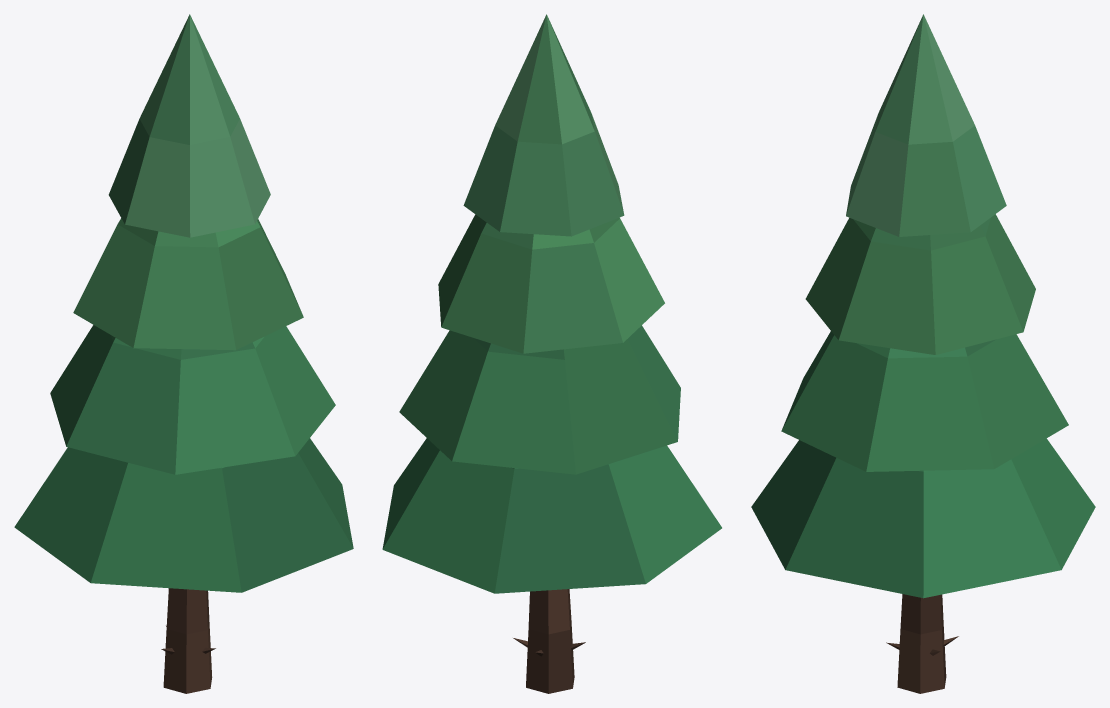
Rendered from Tree_Pine_B.fbx.
3 views of the same model, side by side, from view 1: azimuth 30°, elevation 25°; view 2: azimuth 150°, elevation 25°; view 3: azimuth 270°, elevation 25° (orthographic).
Visible parts, largest first — view 1: Tree_Pine_B; view 2: Tree_Pine_B; view 3: Tree_Pine_B.
Boxes of the visible parts, <box> form: Tree_Pine_B: <box>14,14,353,693</box>; Tree_Pine_B: <box>382,14,721,693</box>; Tree_Pine_B: <box>751,14,1095,693</box>.
Size of the model in its own units: 2.09 by 4.6 by 2.14.
